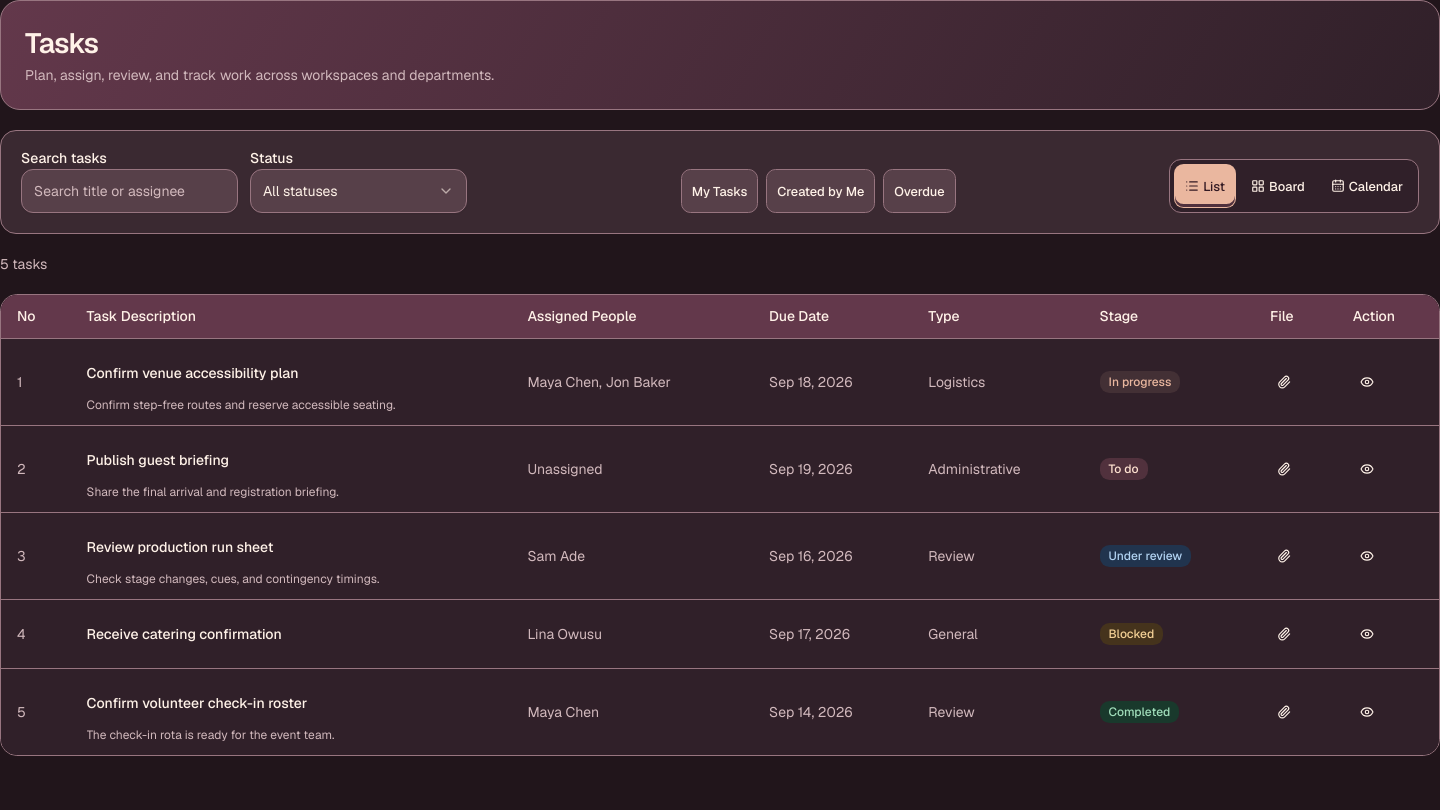
it: TaskWorkspace › opens task detail with collaborators, attachments, comments, and activity
Click the button "Confirm venue accessibility plan" at (193, 373), box [87,351,298,395]
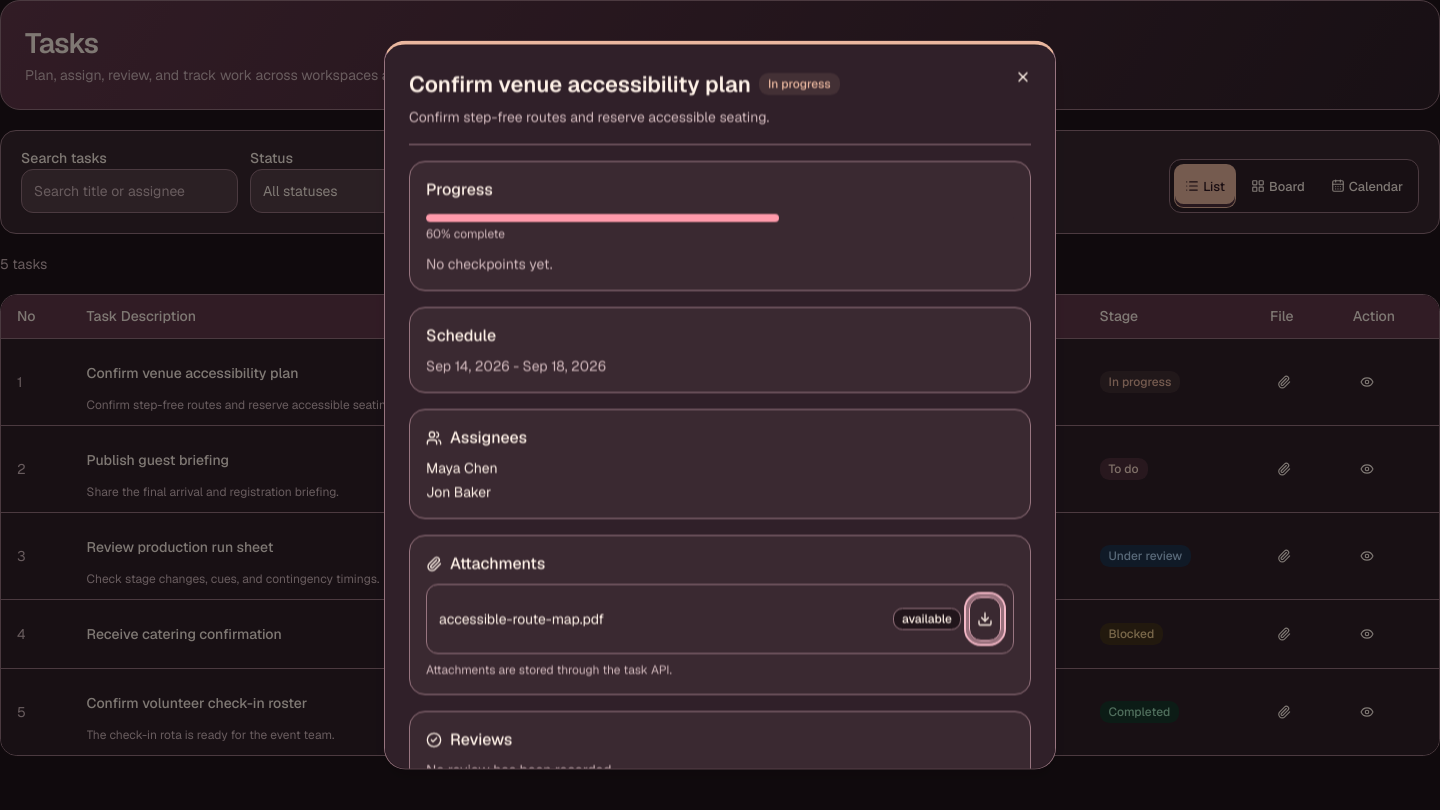
Expected: the dialog is shown, [384,40,1056,770]
Expected: the heading "Assignees" is shown, [426,427,527,448]
Expected: the list named "Task assignees" shows "Maya Chen", [426,459,498,477]
